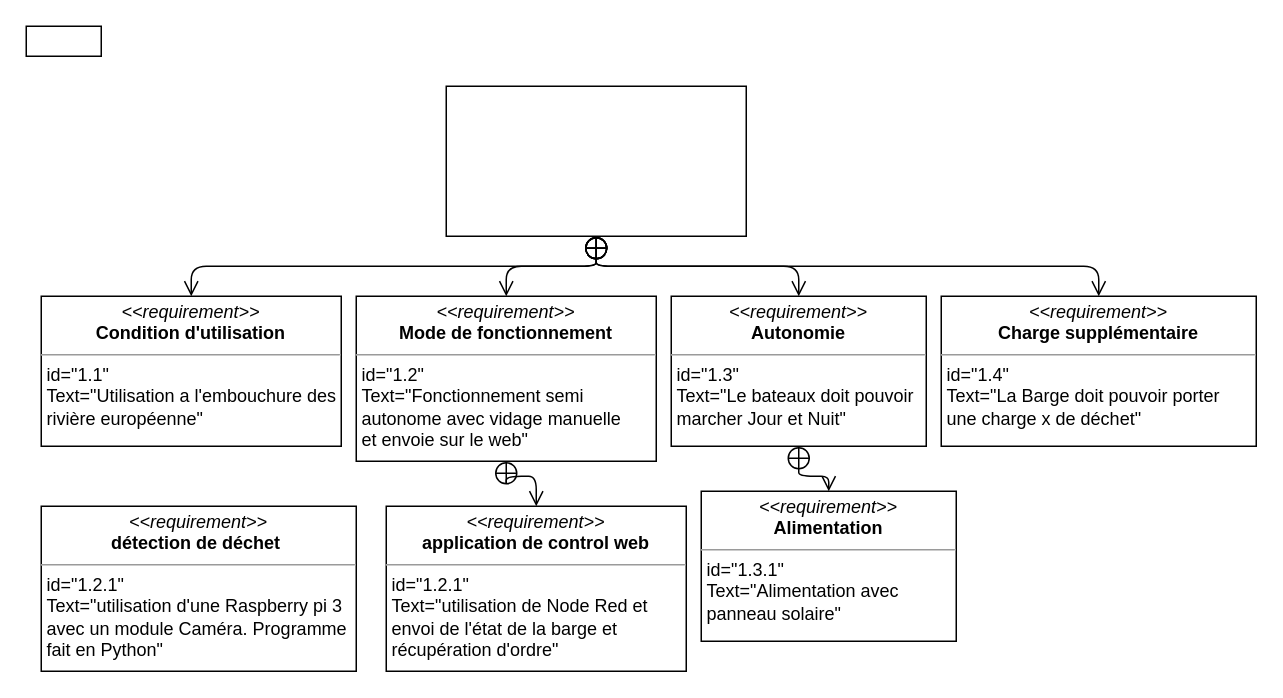
The diagram is 1283 pixels wide and 698 high, and some of its shapes have lost their labels. Each missing label, with the centre of its shape:
<<requirement>> Barge id="1.0" Text="Barge autonome Récolteuse de déchet": point 595,160
REQ: point 63,40
